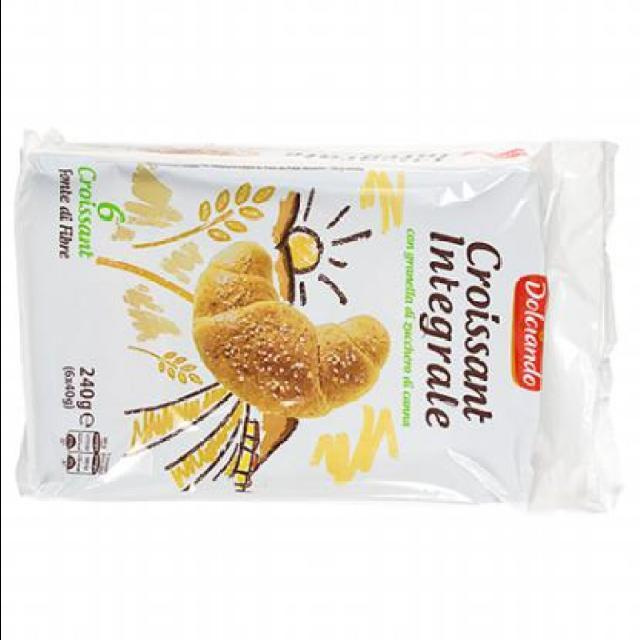Merendine: (12, 127, 580, 519)
